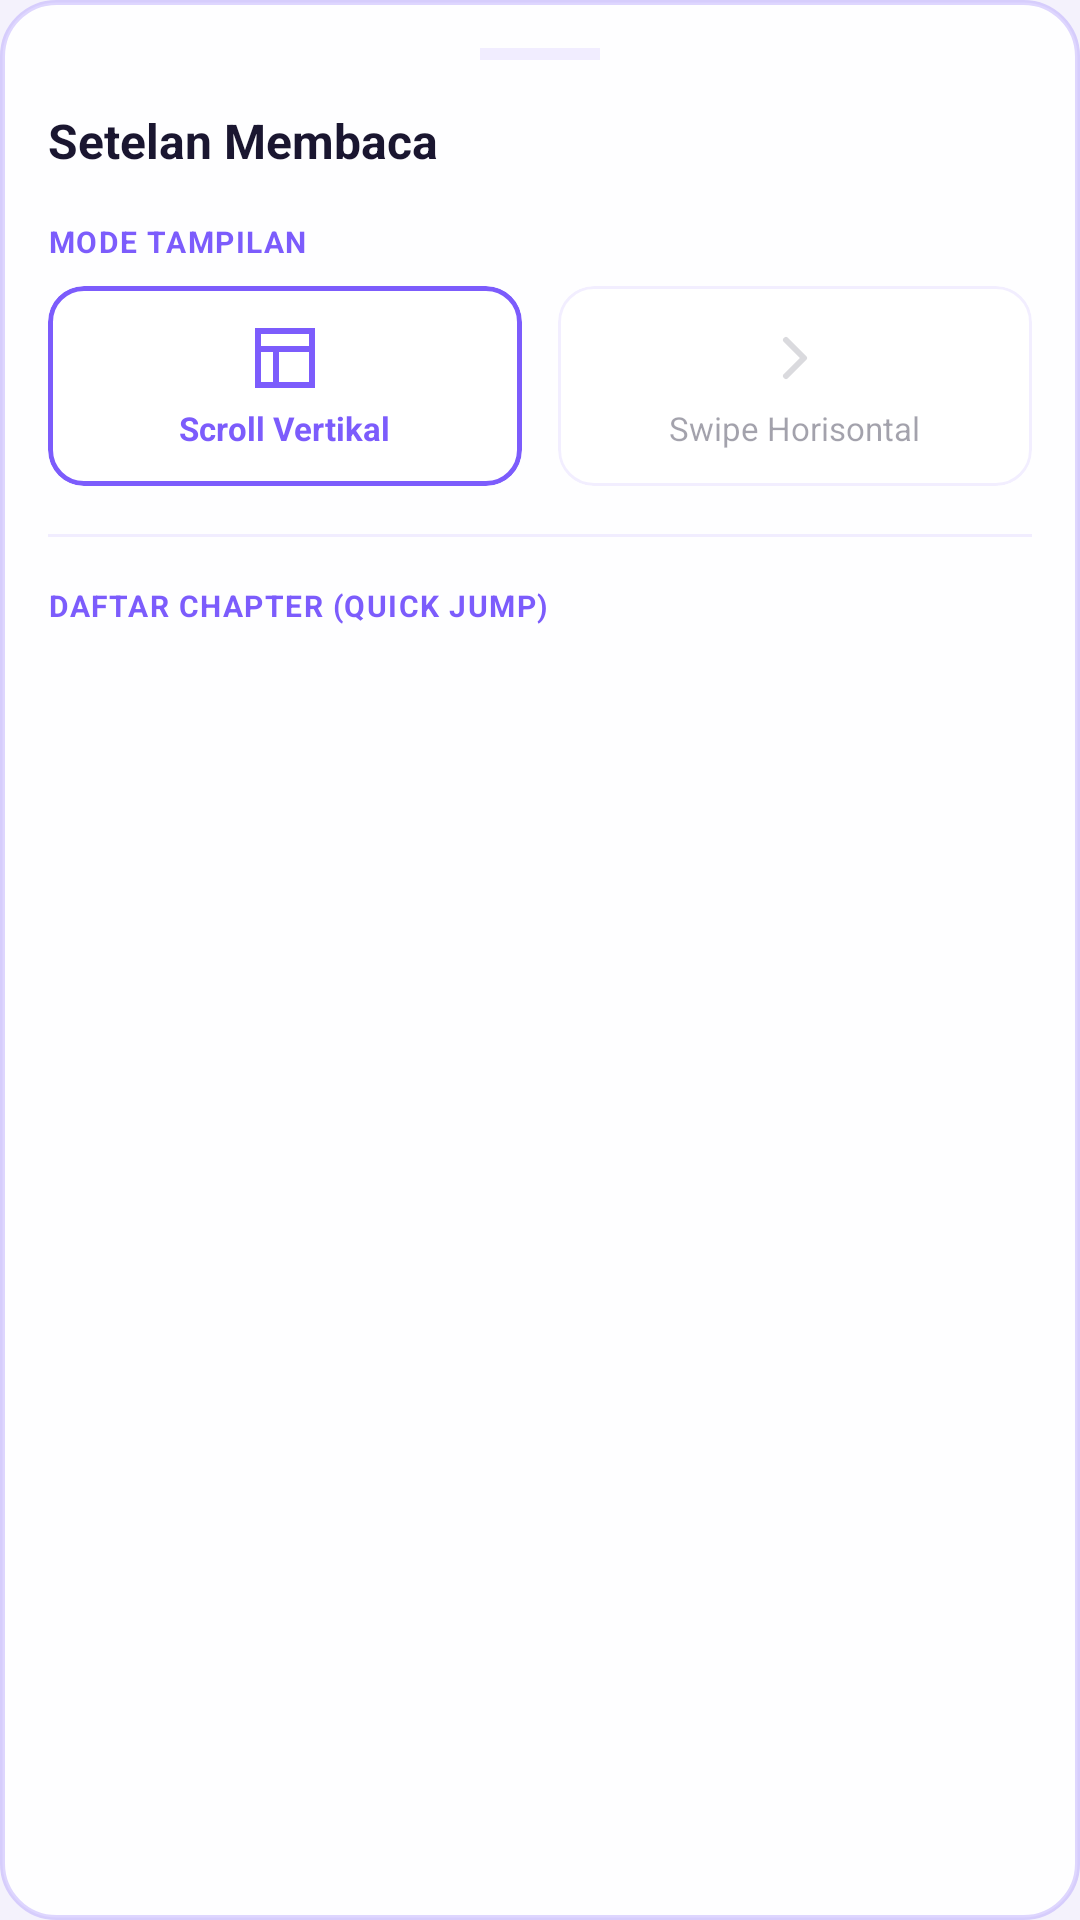

Screen size 1080 × 1920. Icon name, then its box in pixels as (x1, y1, x2, y2):
chevron right: (783, 337, 807, 379)
